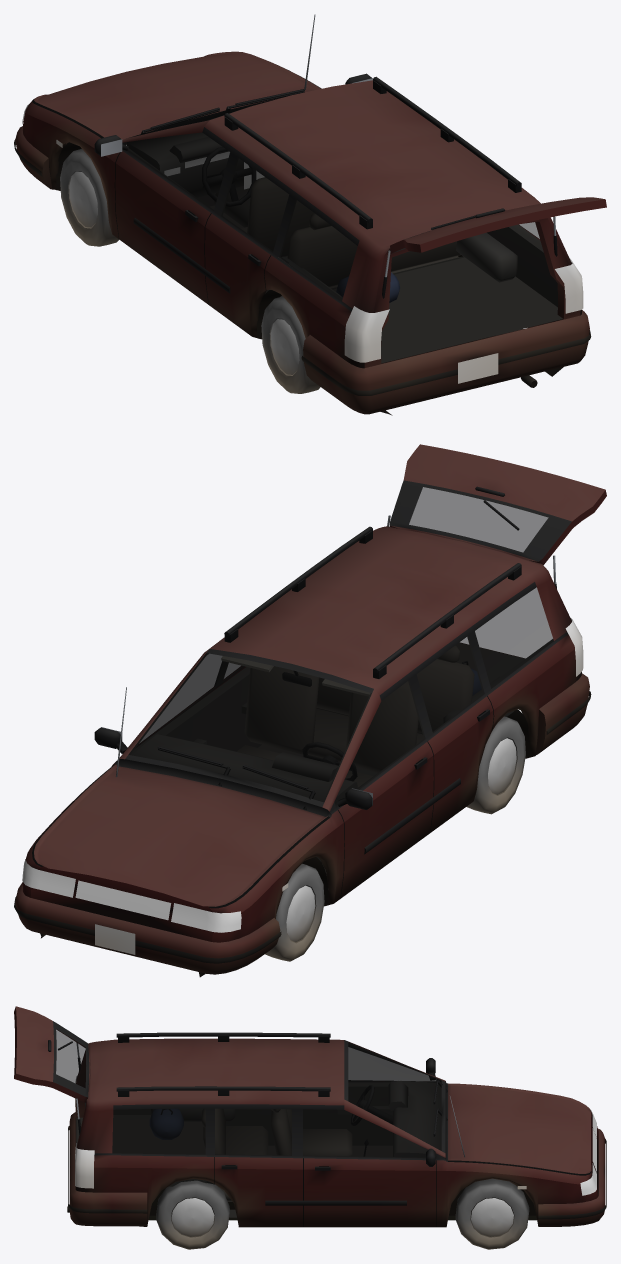
File: car.glb
3 renders of one model, top to bottom at view 1: azimuth 30°, elevation 25°; view 2: azimuth 150°, elevation 25°; view 3: azimuth 270°, elevation 25°, orthographic. The views are drawn at different scales.
Visible parts, largest first — view 1: car_body, car_wheels, car_tailgate; view 2: car_body, car_tailgate, car_wheels; view 3: car_body, car_wheels, car_tailgate.
Part boxes in pixels (x1,y1,x2,y2): car_body: [14, 14, 591, 415]; car_wheels: [60, 149, 522, 393]; car_tailgate: [390, 197, 606, 253]; car_body: [14, 515, 591, 977]; car_tailgate: [390, 444, 606, 565]; car_wheels: [265, 716, 525, 961]; car_body: [67, 1032, 606, 1227]; car_wheels: [156, 1178, 529, 1249]; car_tailgate: [14, 1006, 90, 1102].
Size of the model in its own units: 2.08 by 1.69 by 5.21.
